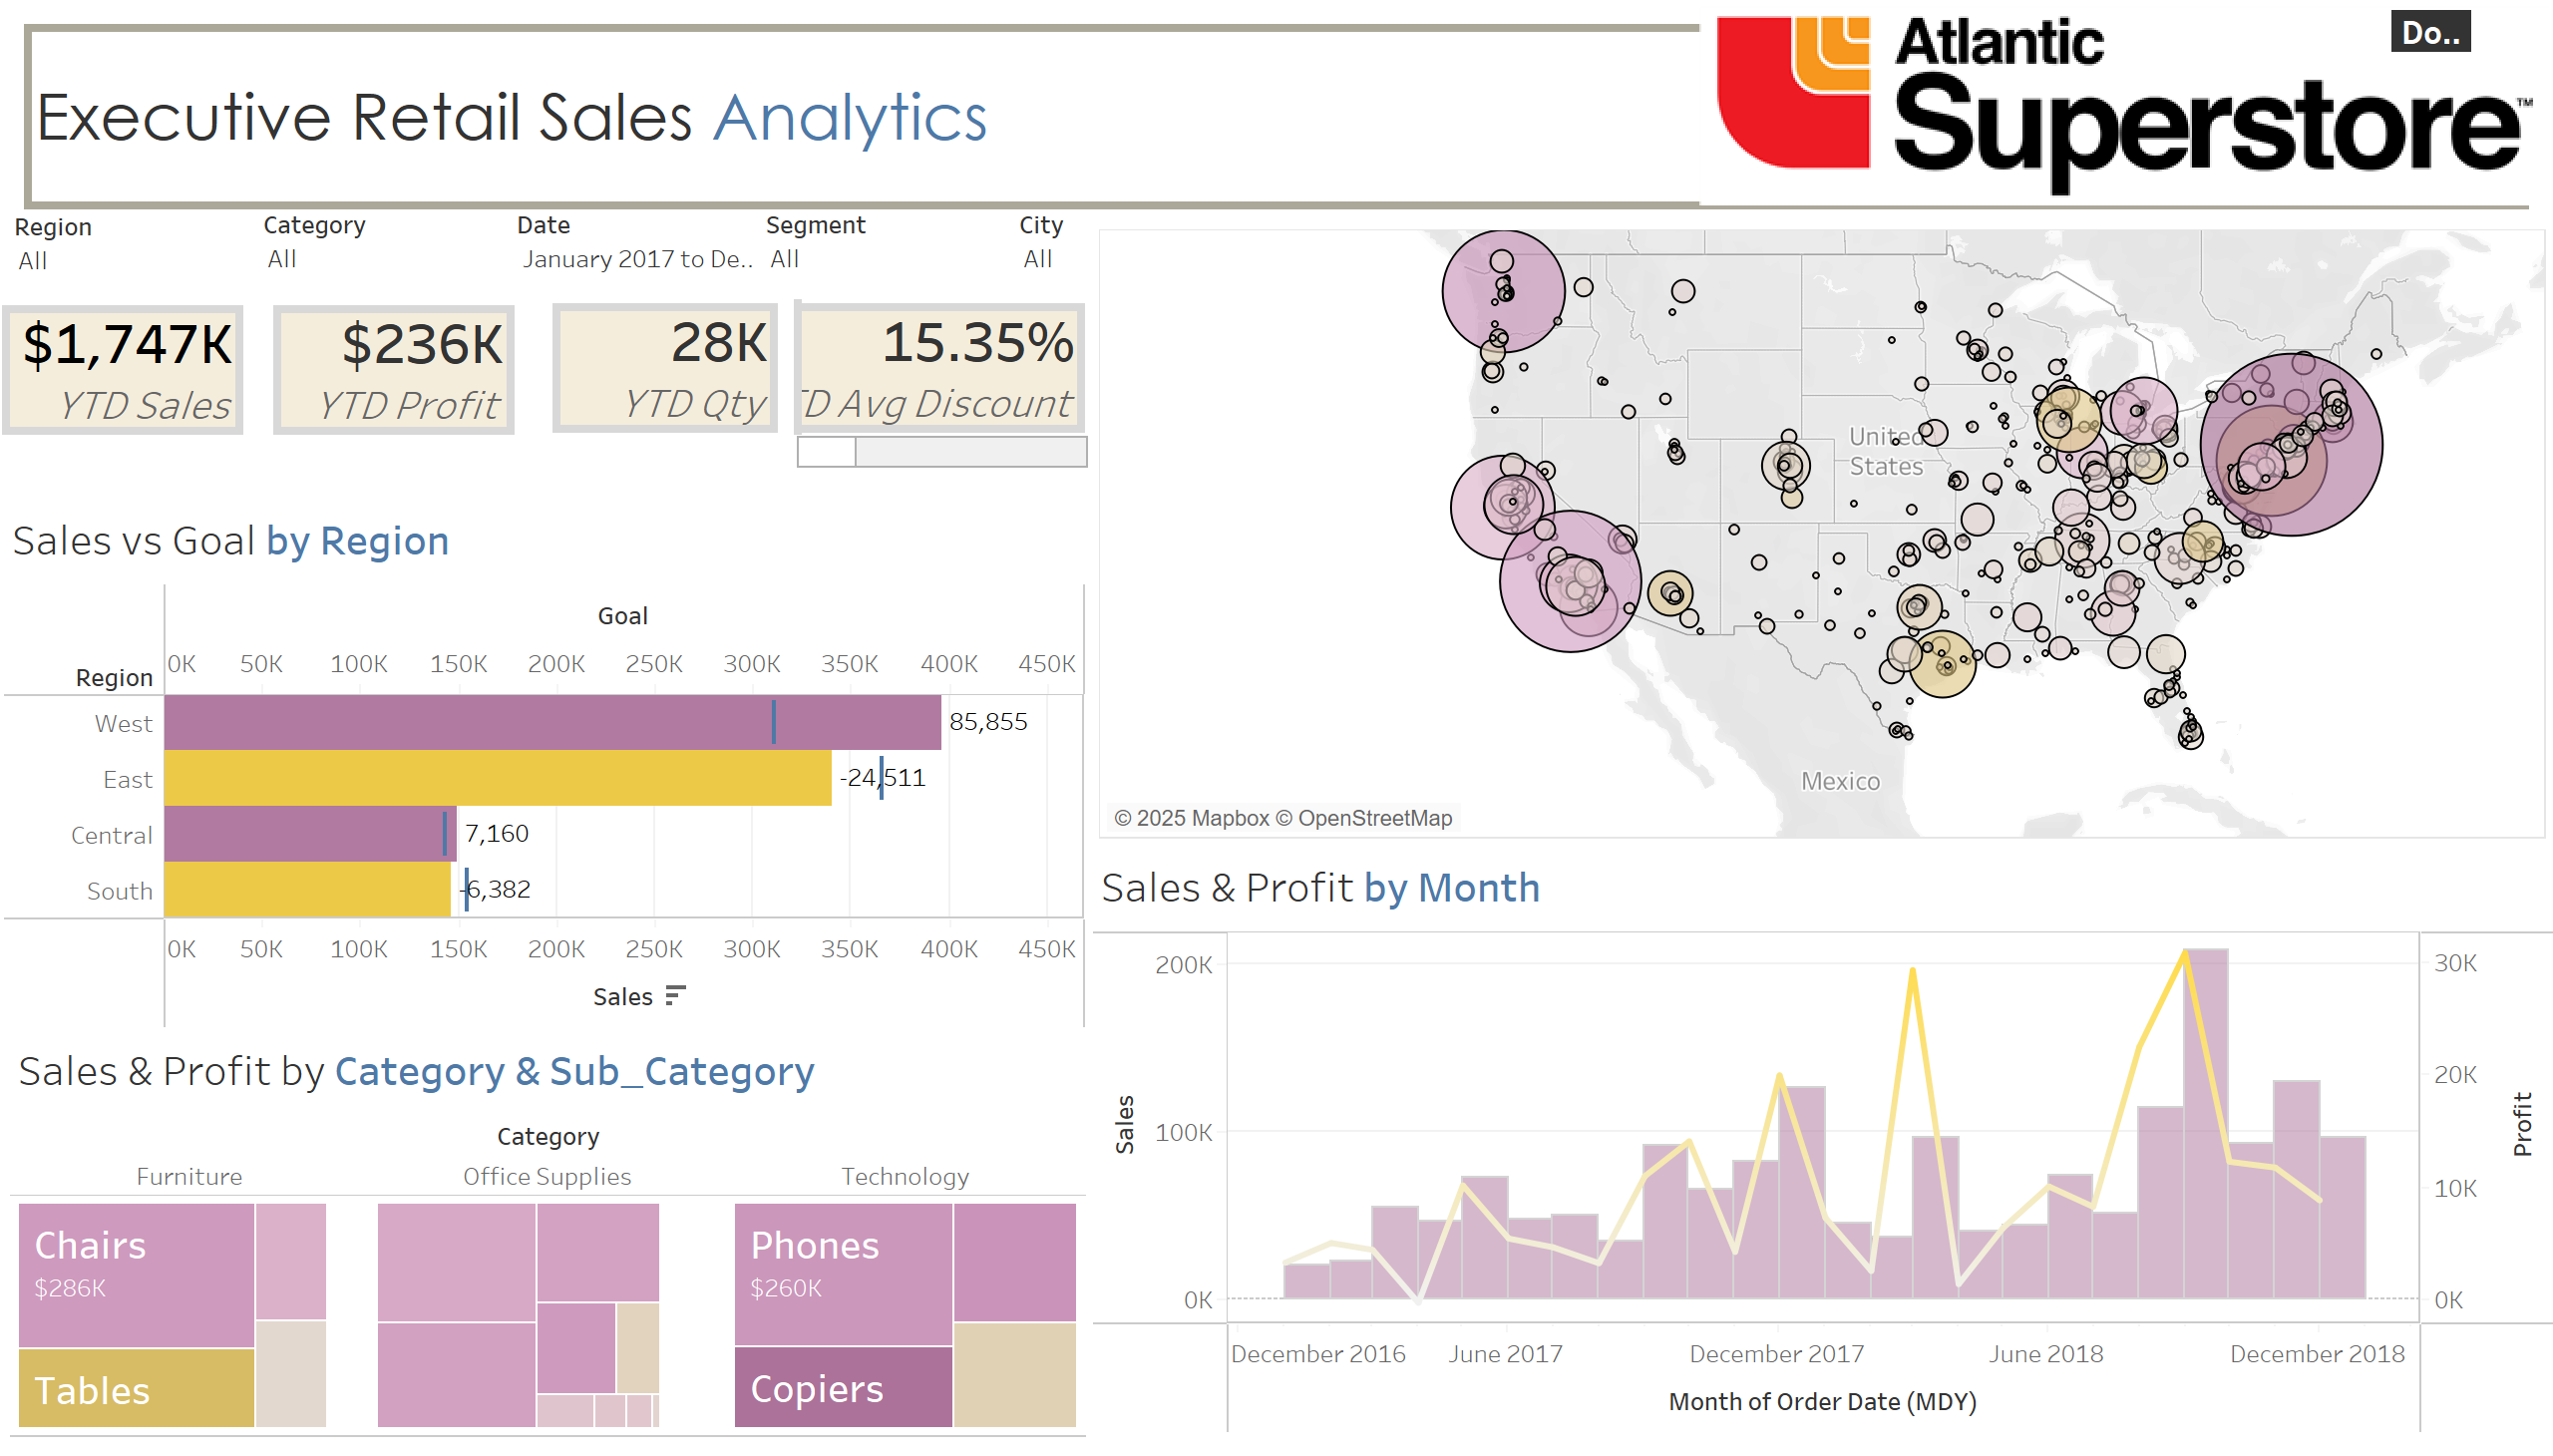

Layout of this report page (visuals, bound fields, positions):
{"tool":"tableau","page":{"name":"Dashboard 1","canvas":[1000,1000],"units":"permille","ordinal":0},"visuals":[{"type":"image","param":"Image/atlantic-superstore-logo-vector.png","box":[665.7,1.1,333.1,143.9]},{"type":"dashboard-object","box":[936.4,6.9,31.8,29.1]},{"type":"title","box":[7.5,13.7,985,173]},{"type":"blank","box":[0.9,18.8,995.3,99.3]},{"type":"filter","title":"Sheet 3","param":"[federated.13j4boa1w5sv170zkaopz0eu2g6c].[none:Category:nk]","box":[103.2,140.7,96.6,60.3]},{"type":"filter","title":"Sheet 4","param":"[federated.13j4boa1w5sv170zkaopz0eu2g6c].[tmn:Order Date (MDY):qk]","box":[202.2,140.7,96.6,60.3]},{"type":"filter","title":"Sheet 3","param":"[federated.13j4boa1w5sv170zkaopz0eu2g6c].[none:Segment:nk]","box":[299.9,140.7,96.6,63.5]},{"type":"filter","title":"Sheet 5","param":"[federated.13j4boa1w5sv170zkaopz0eu2g6c].[none:City:nk]","box":[398.9,140.7,96.6,66.7]},{"type":"filter","title":"Sheet 1 (2)","param":"[federated.13j4boa1w5sv170zkaopz0eu2g6c].[none:Region:nk]","box":[5.4,141.8,96.6,58.2]},{"type":"worksheet","title":"Sheet 5","mark":"Automatic","box":[430.3,157.5,566.9,419.5]},{"type":"worksheet","title":"Sheet 6","mark":"Automatic","box":[0.9,214,88.9,145.6]},{"type":"worksheet","title":"Sheet 6 (2)","mark":"Automatic","box":[87.9,215.8,101,143.8]},{"type":"worksheet","title":"Sheet 6 (4)","mark":"Automatic","box":[277.8,217.5,137.5,140.4]},{"type":"worksheet","title":"Sheet 6 (3)","mark":"Automatic","box":[191.8,219.2,86.1,137]},{"type":"worksheet","title":"Sheet 1 (2)","mark":"Automatic","rows":["Region"],"cols":["Sales","Goal"],"box":[1.8,341.8,396.5,366.1]},{"type":"worksheet","title":"Sheet 4","mark":"Automatic","rows":["Sales","Profit"],"cols":["Order Date (MDY)"],"box":[398.9,579.9,602.3,416.9]},{"type":"worksheet","title":"Sheet 3","mark":"Automatic","cols":["Category"],"box":[3.6,706.9,394.1,282.5]}]}

Visuals, with their boxes on the dashboard's canvas, which has no fixed pixel size, in thousandths of its width and height (x1, y1, x2, y2). These are canvas units, not pixel positions in the 2553x1456 screenshot, which may show the page scaled, cropped or inside an application window:
image: <bbox>666, 1, 999, 145</bbox>
dashboard-object: <bbox>936, 7, 968, 36</bbox>
title: <bbox>8, 14, 992, 187</bbox>
blank: <bbox>1, 19, 996, 118</bbox>
"Sheet 3" filter: <bbox>103, 141, 200, 201</bbox>
"Sheet 4" filter: <bbox>202, 141, 299, 201</bbox>
"Sheet 3" filter: <bbox>300, 141, 396, 204</bbox>
"Sheet 5" filter: <bbox>399, 141, 496, 207</bbox>
"Sheet 1 (2)" filter: <bbox>5, 142, 102, 200</bbox>
"Sheet 5" worksheet: <bbox>430, 158, 997, 577</bbox>
"Sheet 6" worksheet: <bbox>1, 214, 90, 360</bbox>
"Sheet 6 (2)" worksheet: <bbox>88, 216, 189, 360</bbox>
"Sheet 6 (4)" worksheet: <bbox>278, 218, 415, 358</bbox>
"Sheet 6 (3)" worksheet: <bbox>192, 219, 278, 356</bbox>
"Sheet 1 (2)" worksheet: <bbox>2, 342, 398, 708</bbox>
"Sheet 4" worksheet: <bbox>399, 580, 1001, 997</bbox>
"Sheet 3" worksheet: <bbox>4, 707, 398, 989</bbox>
